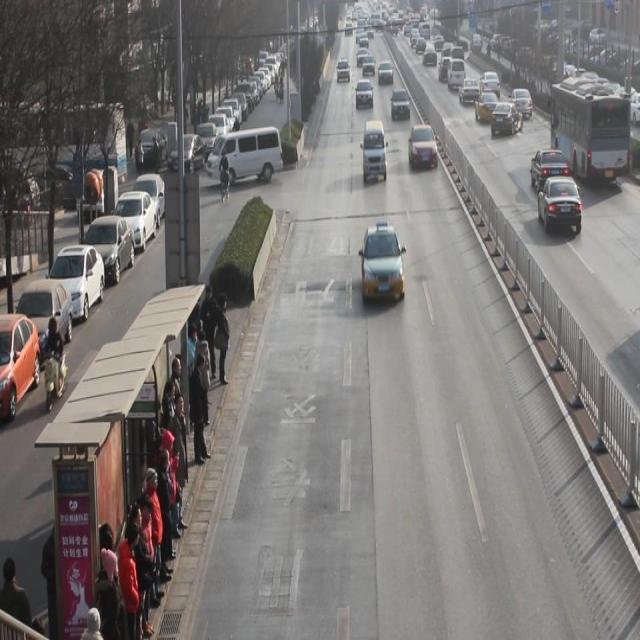car: (361, 224, 404, 305), (538, 175, 582, 238), (531, 148, 568, 198), (408, 124, 438, 171), (491, 102, 524, 137), (474, 92, 500, 124), (509, 88, 533, 122), (390, 90, 410, 122), (480, 72, 501, 101), (458, 78, 480, 105), (356, 81, 374, 112), (438, 56, 456, 84), (378, 60, 394, 88)
truck: (206, 128, 283, 188), (362, 122, 388, 184), (447, 58, 465, 93)
van: (548, 80, 628, 188)
